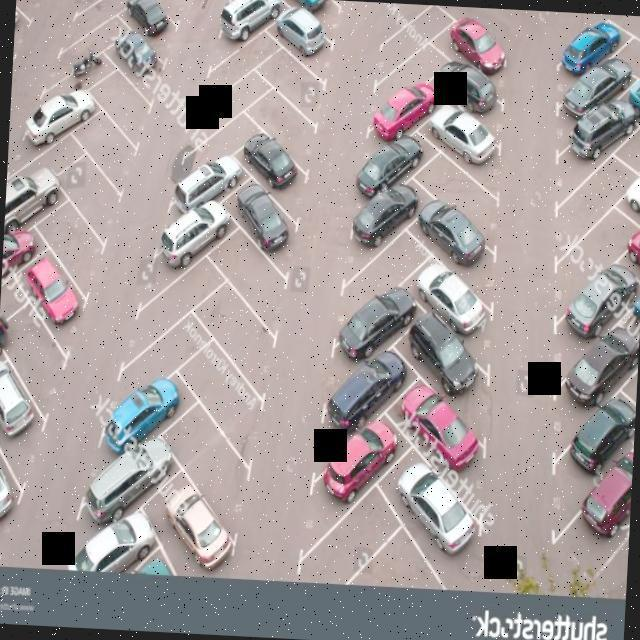car: (373, 438, 490, 580), (546, 306, 639, 482), (547, 375, 636, 545), (548, 250, 640, 401), (381, 370, 487, 500), (546, 440, 634, 590), (394, 300, 491, 425), (399, 245, 492, 363), (315, 339, 414, 439), (8, 243, 86, 356), (229, 123, 310, 220), (0, 356, 51, 509)
free: (148, 388, 258, 560), (118, 250, 235, 376), (169, 335, 264, 478), (288, 481, 407, 591), (547, 198, 640, 337), (0, 267, 72, 437), (204, 216, 290, 348), (409, 148, 506, 264), (552, 153, 639, 269), (46, 146, 127, 258), (336, 227, 436, 315), (57, 106, 145, 206), (370, 5, 461, 100), (250, 40, 329, 138), (84, 58, 153, 163), (145, 0, 188, 29)
